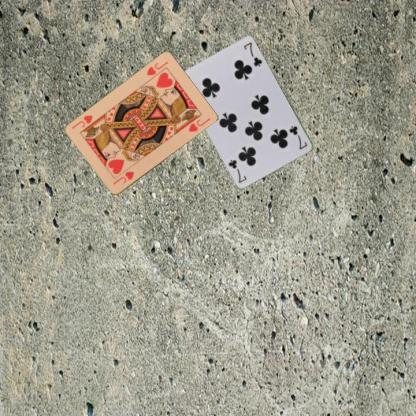7c: (286, 123, 308, 151)
Jh: (144, 58, 169, 77), (110, 168, 135, 186)
